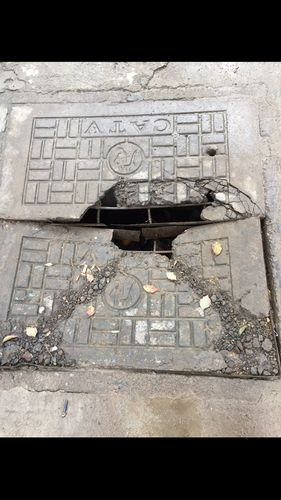broke: (4, 87, 281, 406)
